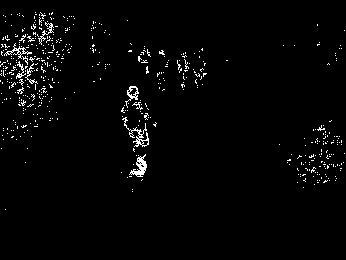person: (120, 85, 156, 178)
